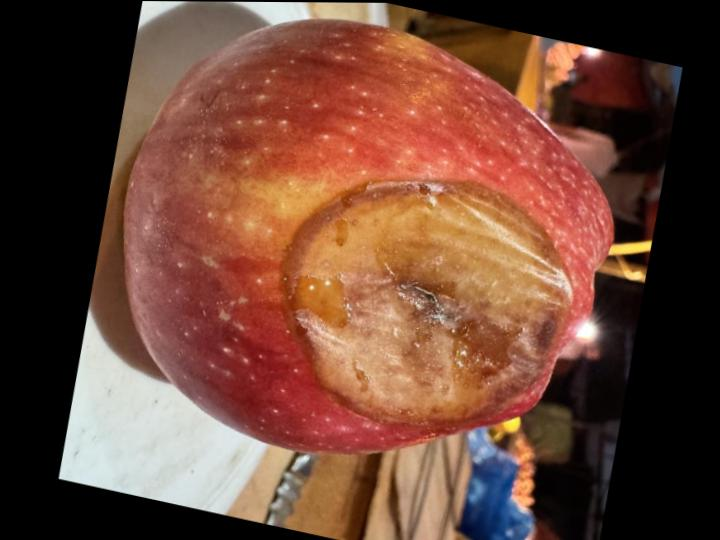apple: (124, 19, 611, 452)
rot_mold_decay: (283, 179, 571, 431)
